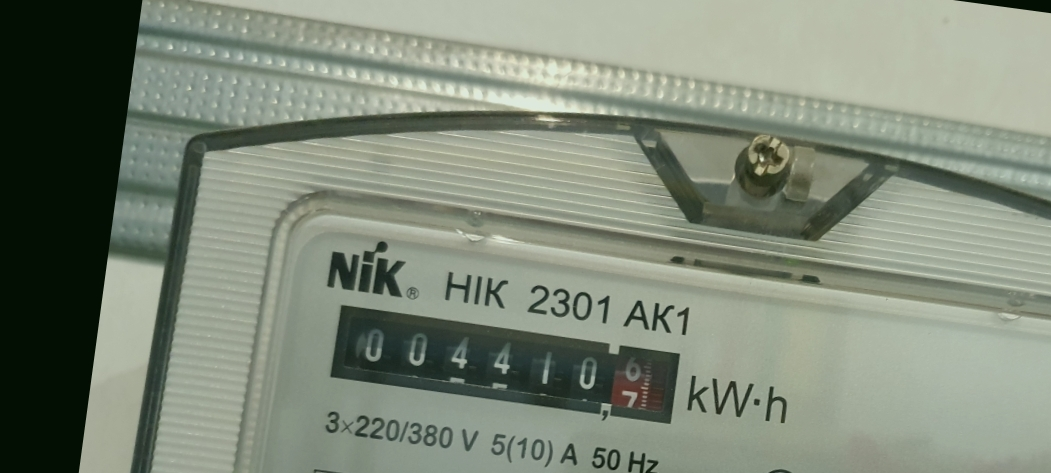0: (360, 323, 386, 364), (405, 327, 428, 368), (575, 353, 599, 391)
1: (535, 347, 554, 386)
4: (488, 337, 515, 378), (446, 330, 472, 370)
6: (623, 354, 644, 382)
7: (617, 387, 638, 408)
screen: (316, 290, 694, 437)
